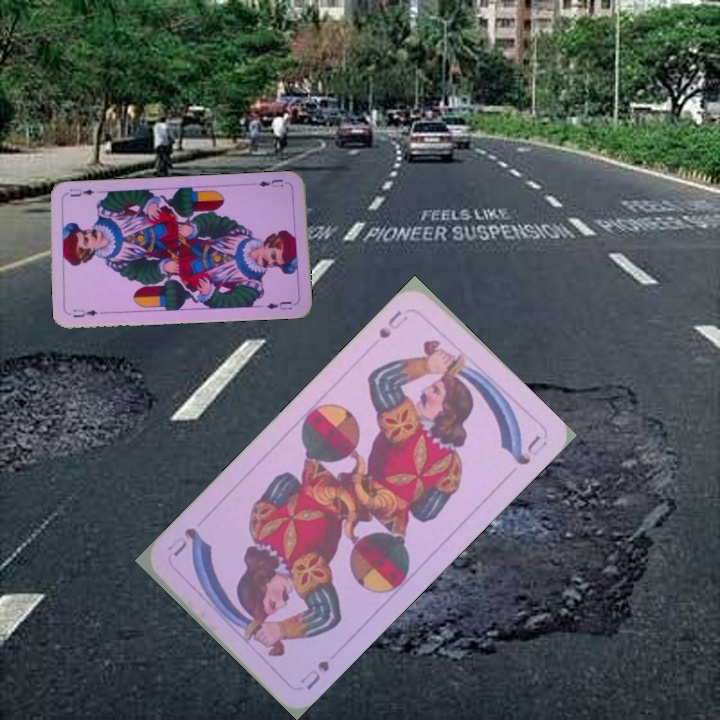EU: (250, 175, 291, 190), (69, 305, 100, 320)
SU: (296, 656, 332, 693), (375, 306, 411, 341)
